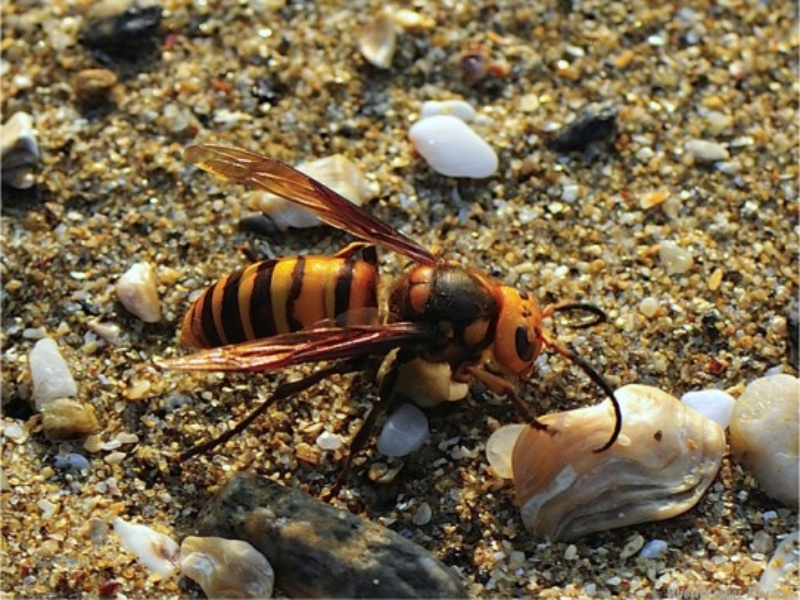asian_giant_hornet: (164, 244, 563, 382)
